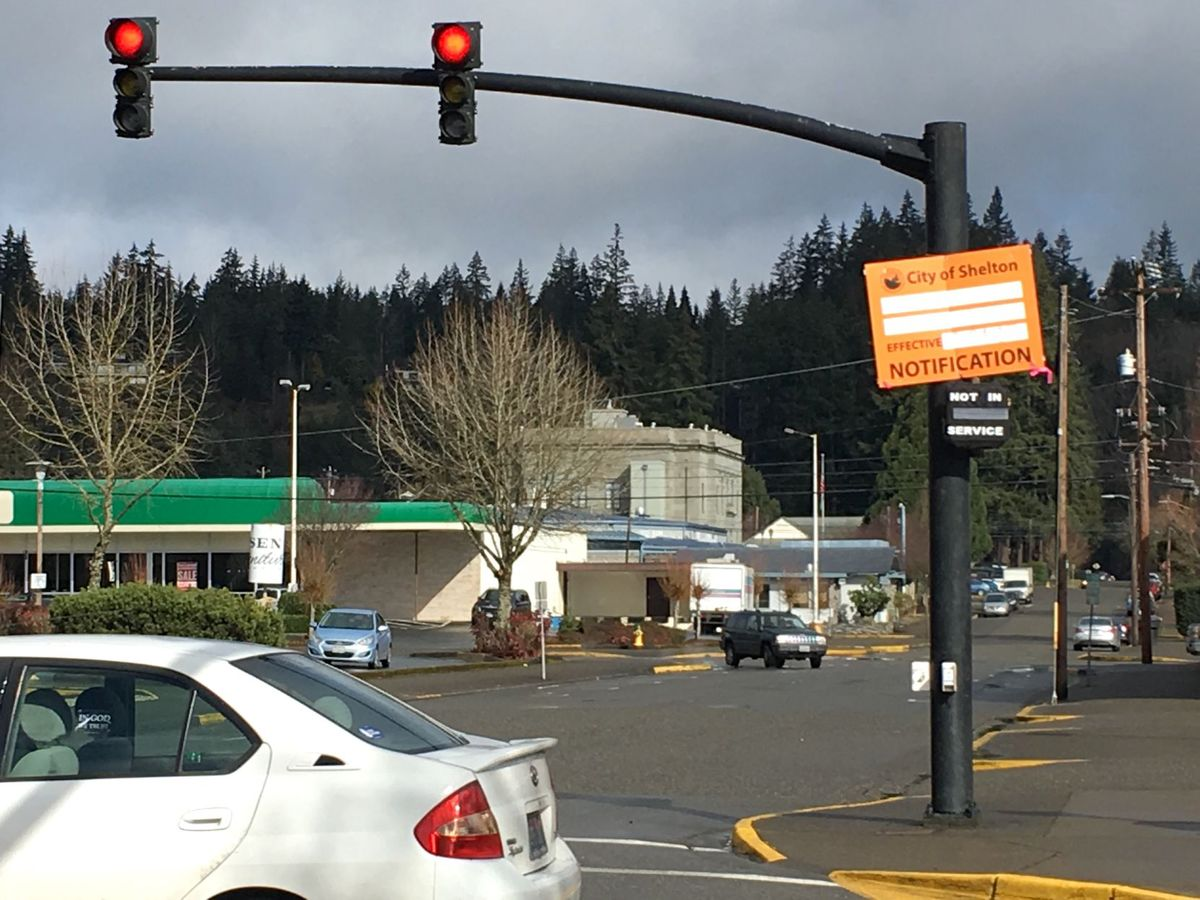traffic_light: (101, 14, 163, 142), (429, 19, 485, 147)
